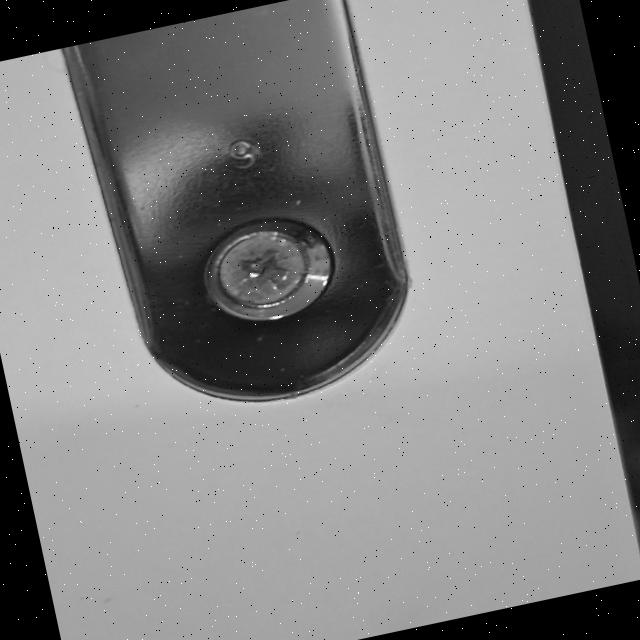Pozidriv: (189, 208, 337, 334)
